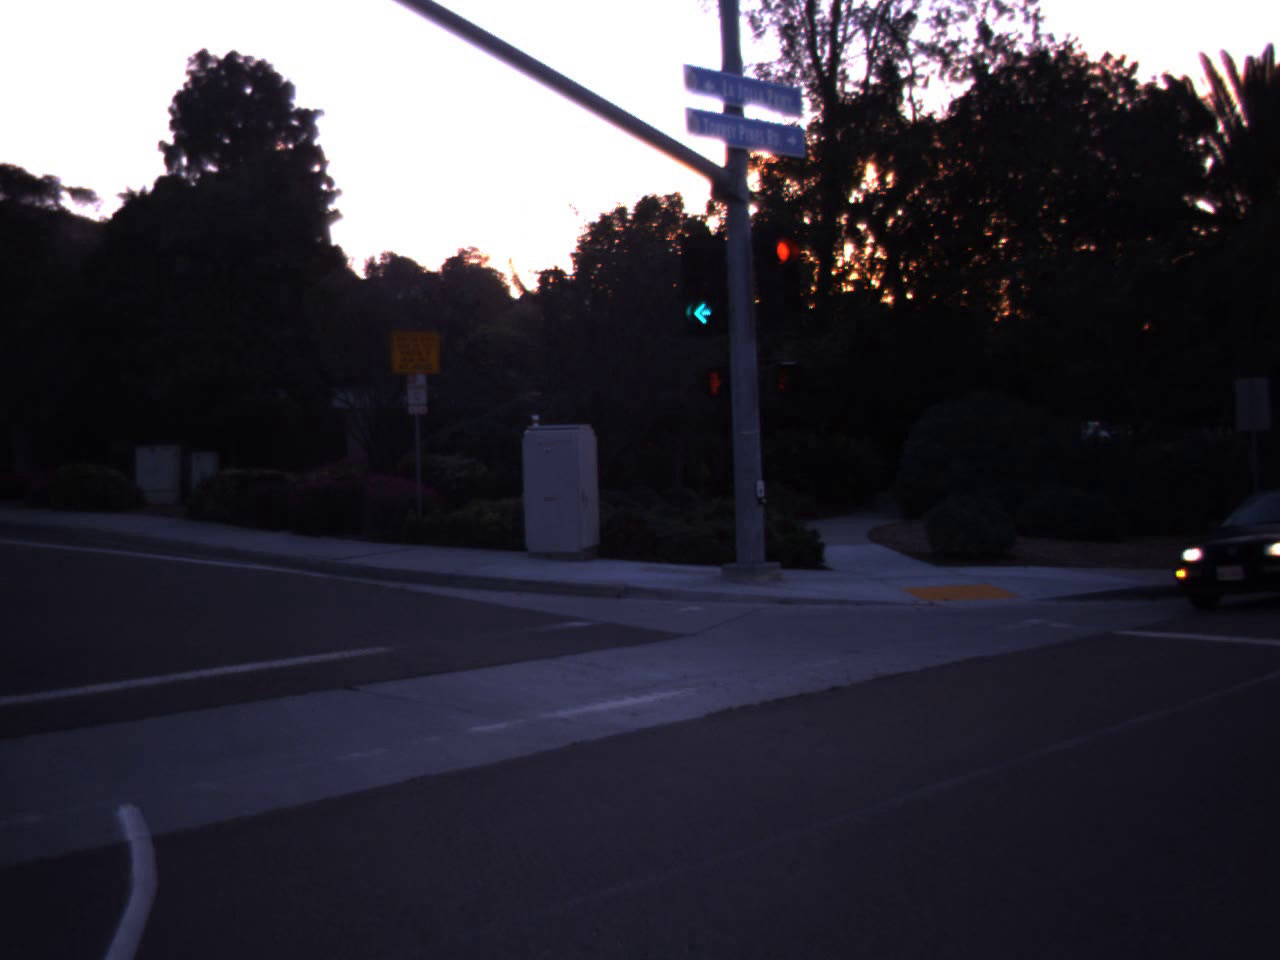go: (668, 224, 737, 334)
